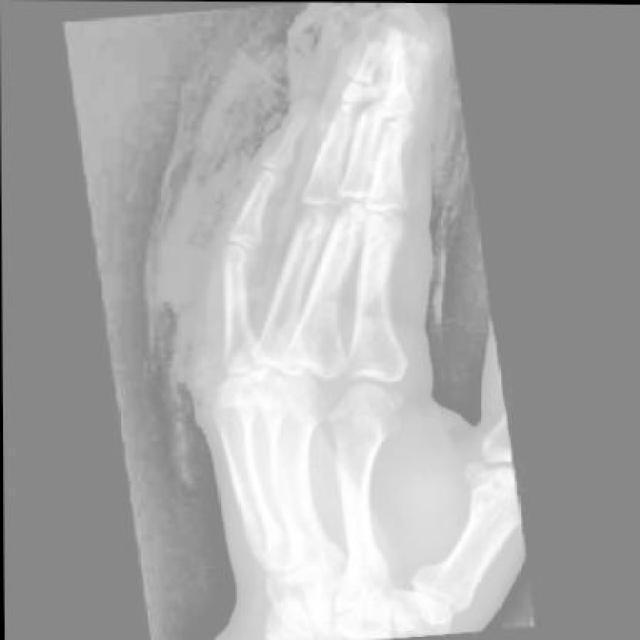Fracture: (377, 25, 430, 101), (368, 37, 421, 101), (346, 30, 388, 90)
